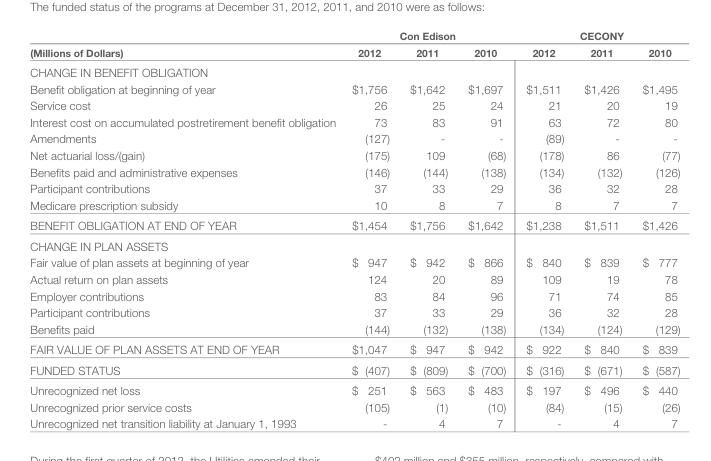table: (29, 29, 679, 429)
table column: (29, 29, 343, 429), (399, 29, 457, 429), (457, 29, 515, 429), (515, 29, 573, 429), (573, 29, 631, 429), (343, 29, 399, 429), (631, 29, 679, 429)
table column header: (29, 29, 679, 61)
table projected row header: (29, 61, 679, 80), (29, 235, 679, 253)
table row: (29, 214, 679, 235), (29, 338, 679, 359), (29, 359, 679, 379), (29, 61, 679, 80), (29, 379, 679, 398), (29, 43, 679, 61), (29, 196, 679, 214), (29, 235, 679, 253), (29, 320, 679, 338), (29, 96, 679, 113), (29, 129, 679, 146), (29, 146, 679, 163), (29, 179, 679, 196), (29, 253, 679, 270), (29, 286, 679, 303), (29, 303, 679, 320), (29, 80, 679, 96), (29, 113, 679, 129), (29, 163, 679, 179), (29, 270, 679, 286), (29, 398, 679, 414), (29, 414, 679, 429), (29, 29, 679, 43)
table spanning cell: (29, 29, 343, 61), (343, 29, 515, 43), (515, 29, 679, 43)
